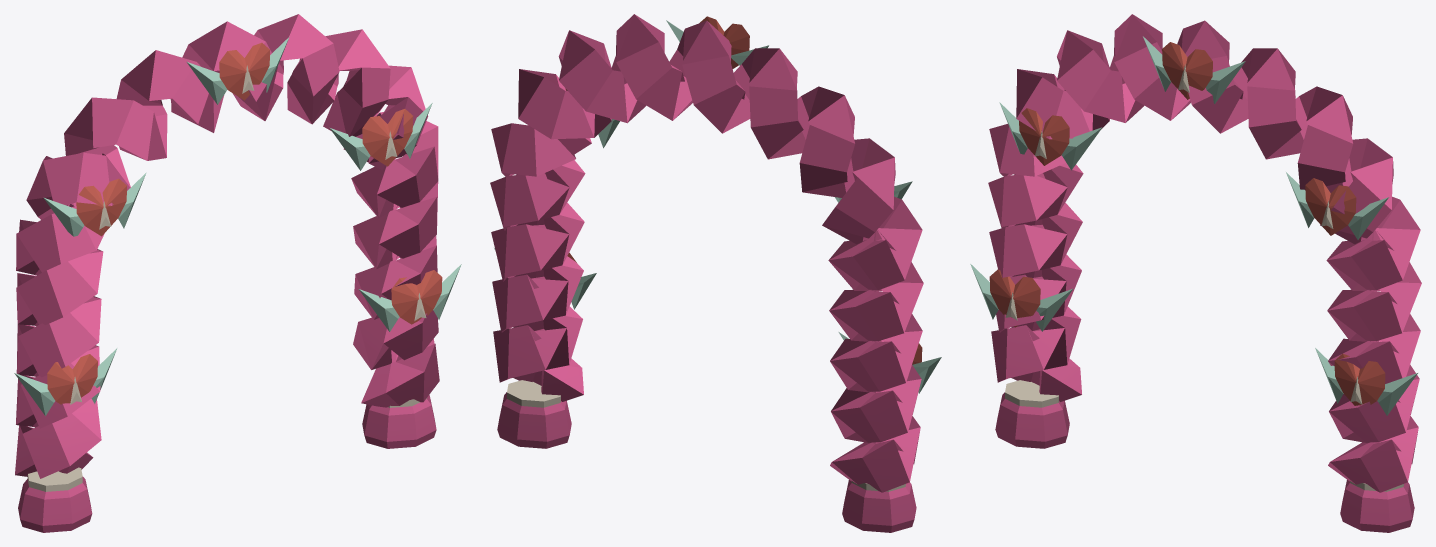
The model's file is cord-arch.glb.
The picture shows the model from 3 angles, left to right: view 1: azimuth 30°, elevation 25°; view 2: azimuth 150°, elevation 25°; view 3: azimuth 330°, elevation 25°; orthographic projection.
Parts seen in each view (by area): view 1: swing_mesh, pulse_mesh, root_mesh; view 2: swing_mesh, root_mesh, pulse_mesh; view 3: swing_mesh, pulse_mesh, root_mesh.
Part boxes in pixels (x1,y1,x2,y2): swing_mesh: (14, 14, 461, 478); pulse_mesh: (47, 42, 442, 404); root_mesh: (18, 395, 436, 532); swing_mesh: (490, 14, 941, 492); root_mesh: (497, 380, 916, 532); pulse_mesh: (565, 16, 922, 364); swing_mesh: (970, 14, 1421, 492); pulse_mesh: (989, 42, 1385, 405); root_mesh: (995, 380, 1414, 532).
Size of the model in its own units: 3.6 by 3.5 by 0.6.
